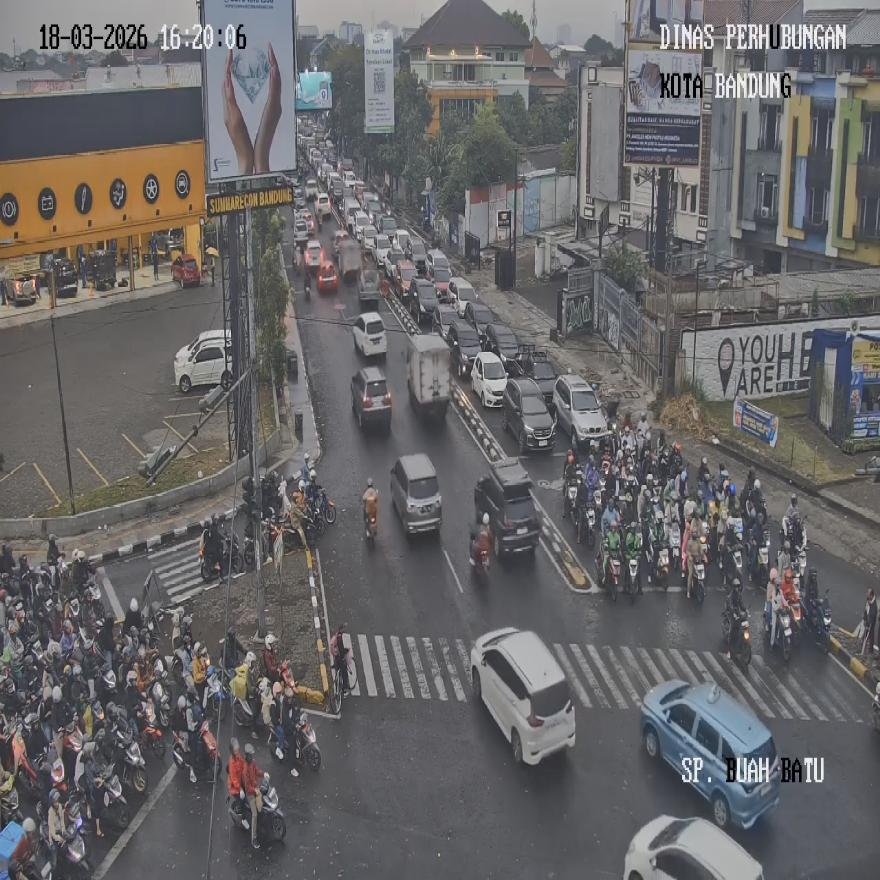Mobil: (639, 677, 781, 829), (470, 627, 576, 764), (622, 814, 765, 880), (474, 458, 540, 556), (552, 373, 608, 451), (390, 452, 442, 534), (502, 375, 555, 452), (173, 328, 233, 394), (350, 365, 392, 429)
Motor: (229, 773, 286, 844), (266, 710, 320, 771), (172, 715, 220, 782), (84, 761, 128, 832), (107, 718, 146, 794), (54, 816, 91, 880), (780, 514, 807, 586), (12, 734, 40, 802), (721, 608, 752, 668), (134, 696, 165, 756), (803, 587, 832, 649), (330, 625, 356, 694), (770, 595, 793, 661), (204, 664, 230, 721), (305, 479, 335, 527), (747, 526, 770, 586), (468, 524, 490, 583), (686, 543, 706, 606), (599, 546, 621, 602), (576, 490, 597, 548), (231, 678, 255, 728), (0, 773, 21, 828), (651, 534, 670, 590), (624, 550, 641, 601), (362, 485, 376, 545), (563, 476, 579, 520), (364, 511, 376, 546)
